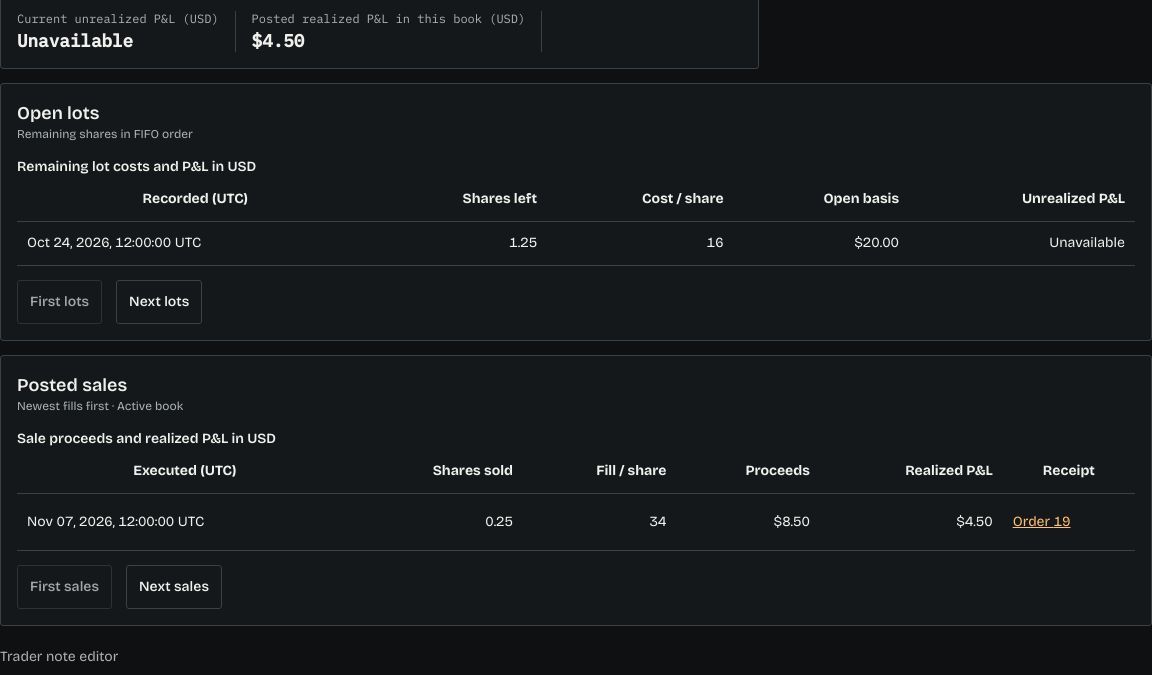
pages the two lists independently and allows a fully sold holding to retain its sales
(page scrolled)
Click the button "Next sales": x=174, y=587 [126,565,222,609]
(page scrolled)
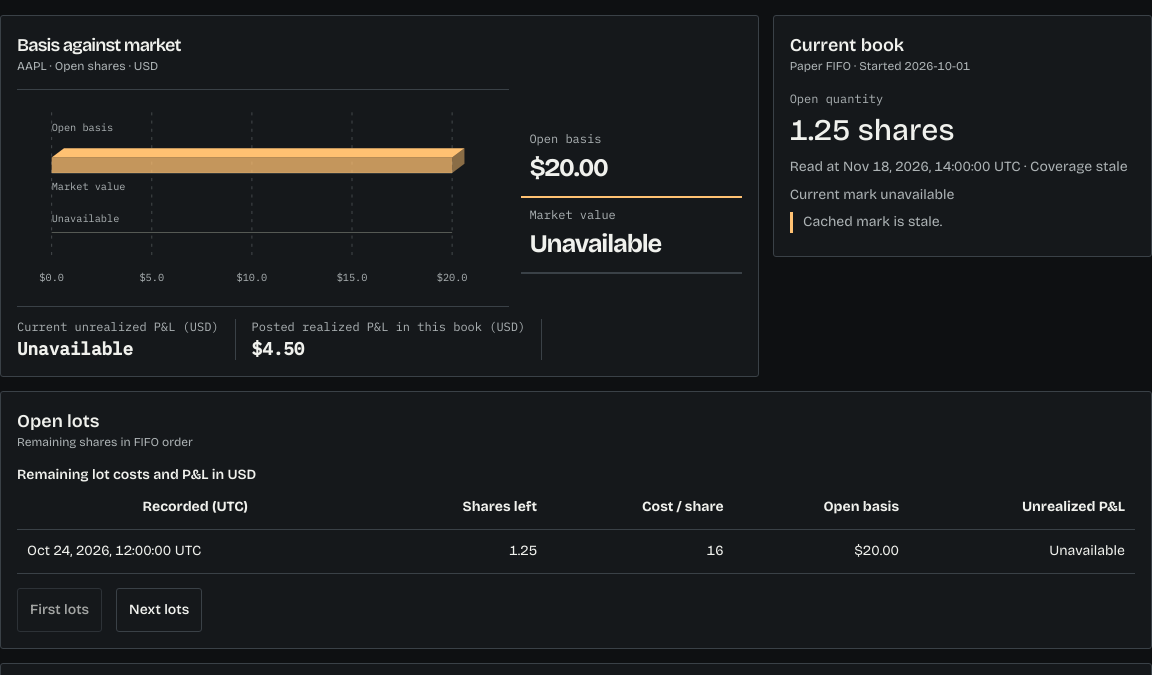
Click the button "Next lots": x=159, y=610 [116,588,202,632]
(page scrolled)
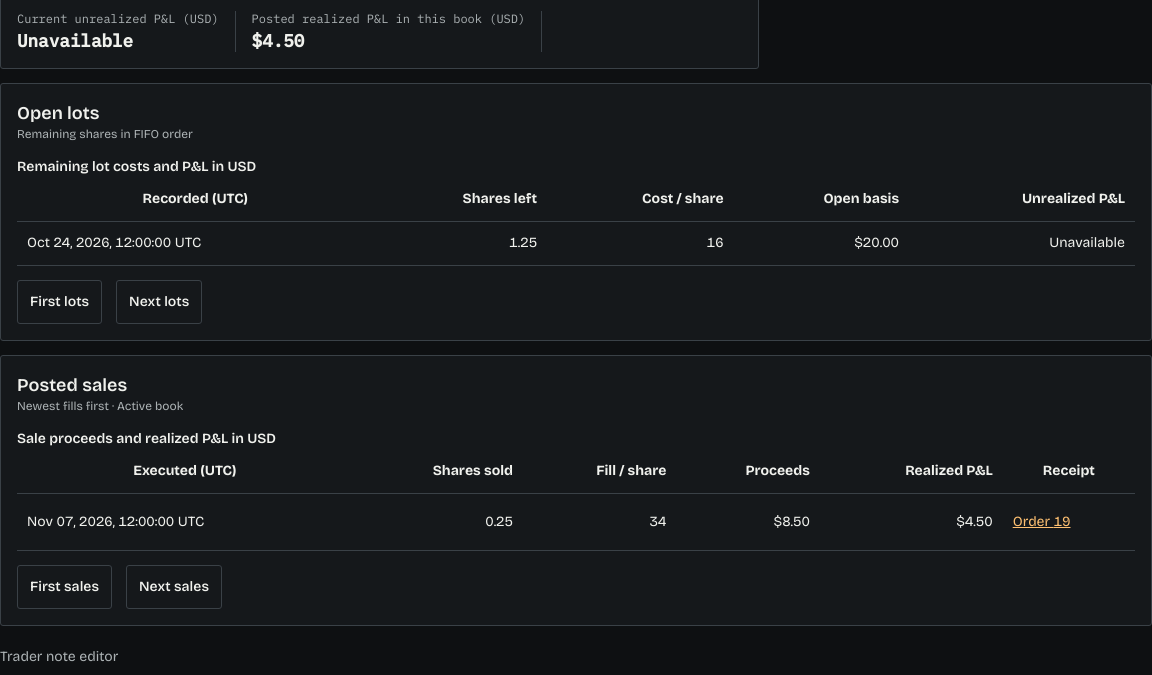
Expected: the button "First lots" is shown, [17,280,102,324]
Click the button "First sales": x=64, y=587 [17,565,112,609]
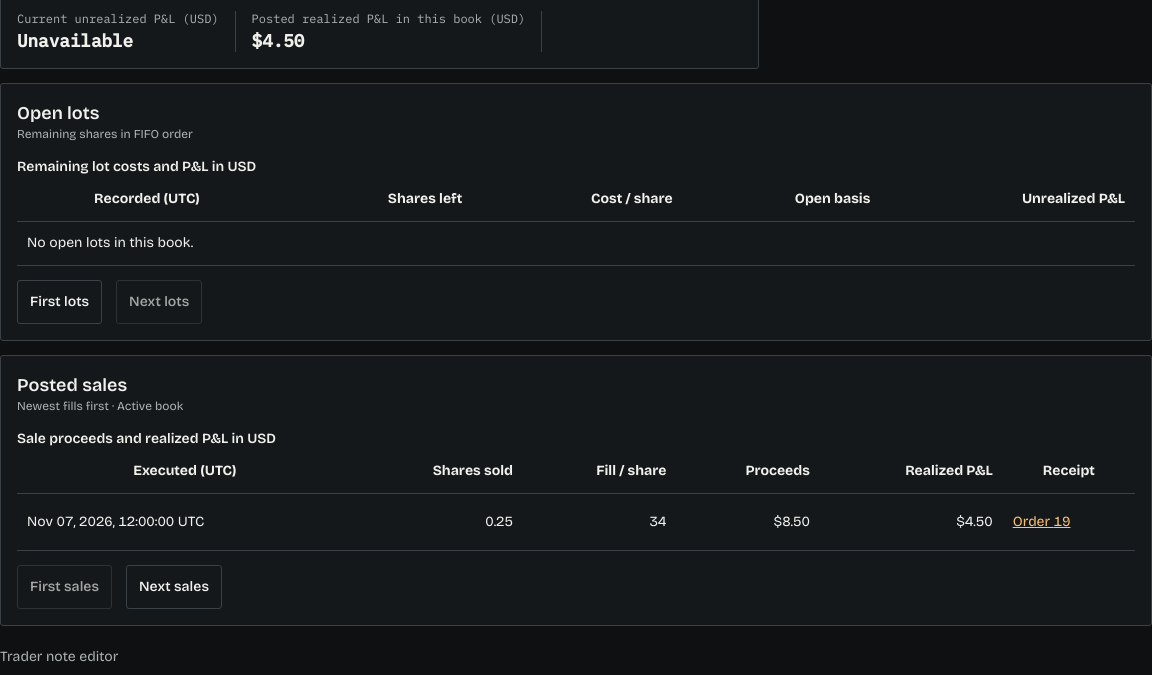
Expected: the link "Order 19" is shown, [1013,513,1070,530]
Now the text "No open lots in this book." is shown, box [17,221,1135,265]
